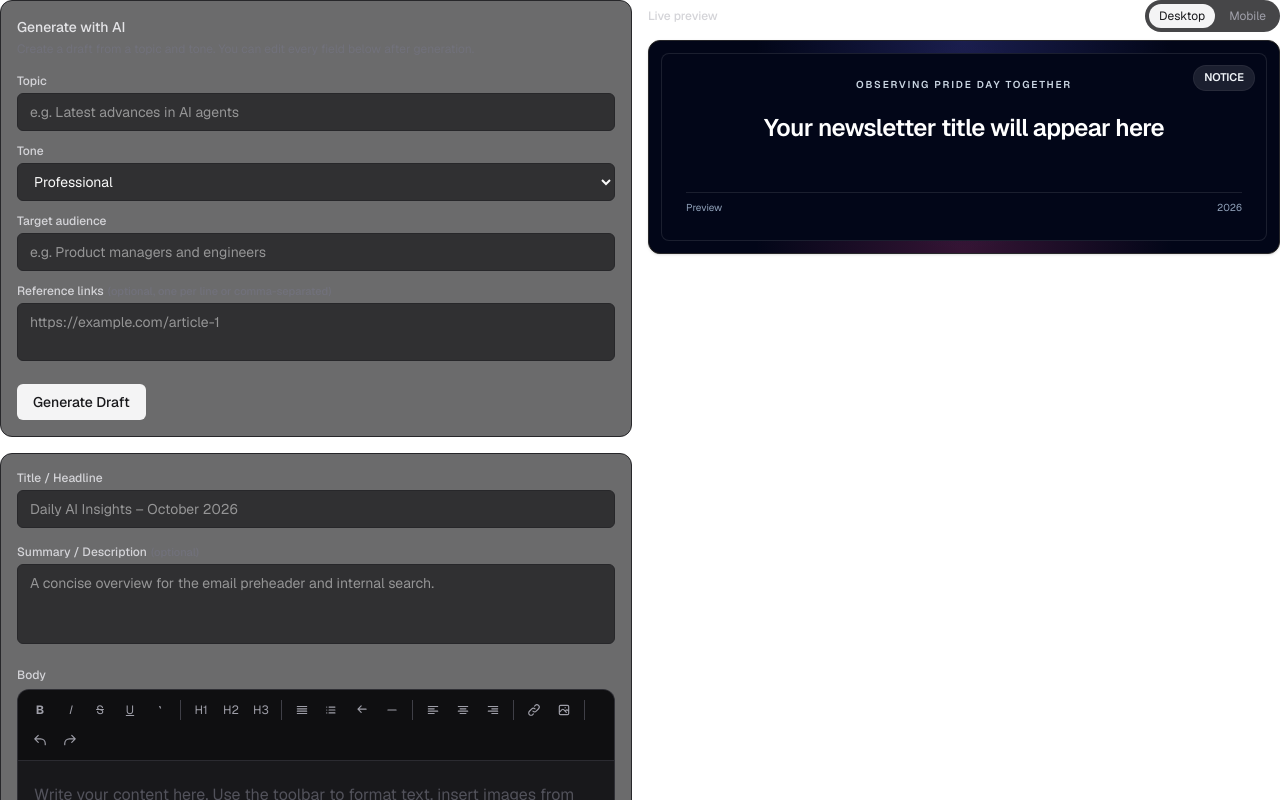
Test: NewsletterEditor › updates title in preview when typing
Type "My Newsletter" into the field labelled "Title / Headline" at coordinates (316, 509), box [17,490,615,528]
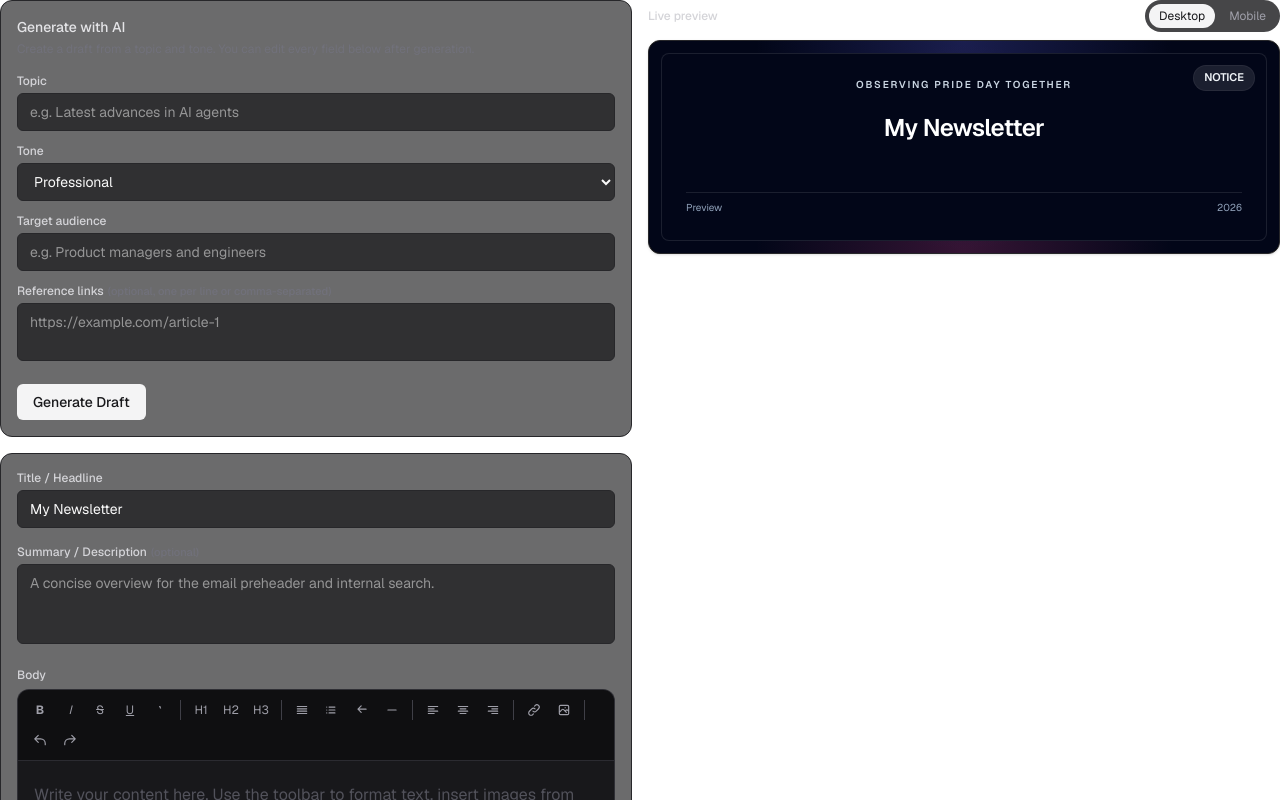
Expected: the heading "My Newsletter" is shown, [884,112,1044,143]
